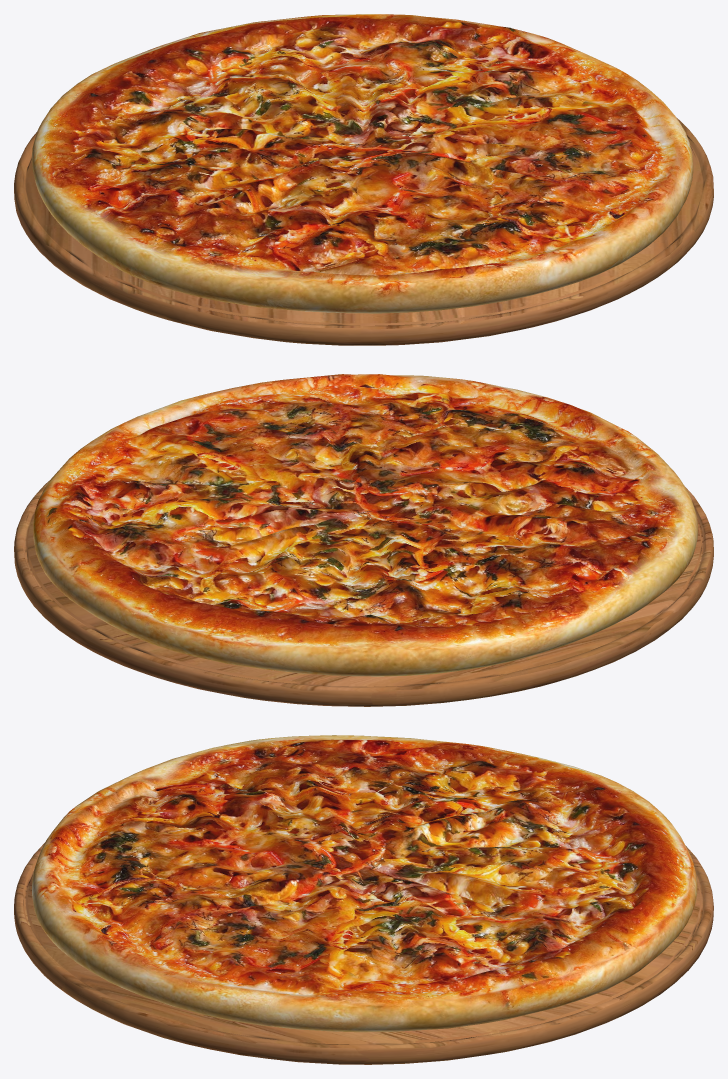
File: pizza3.dae
3 renders of one model, top to bottom at view 1: azimuth 30°, elevation 25°; view 2: azimuth 150°, elevation 25°; view 3: azimuth 270°, elevation 25°, orthographic.
Visible parts, largest first — view 1: Cylinder002_005_Cylinder002_005_wire_196088225_000; view 2: Cylinder002_005_Cylinder002_005_wire_196088225_000; view 3: Cylinder002_005_Cylinder002_005_wire_196088225_000.
Part boxes in pixels (x1,y1,x2,y2): Cylinder002_005_Cylinder002_005_wire_196088225_000: (14, 14, 713, 345); Cylinder002_005_Cylinder002_005_wire_196088225_000: (14, 374, 713, 706); Cylinder002_005_Cylinder002_005_wire_196088225_000: (14, 735, 713, 1064).
Size of the model in its own units: 26.3 by 26.3 by 2.57.
Materials: 2 (2 with a texture image).
